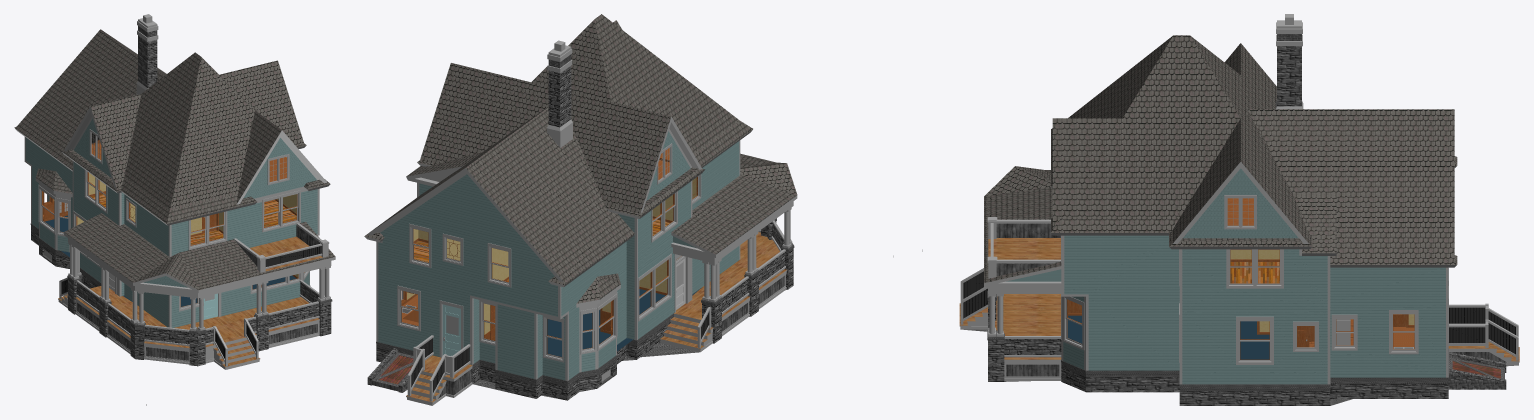
The model's file is VictorianHouseInner.fbx.
3 renders of one model, left to right at view 1: azimuth 30°, elevation 25°; view 2: azimuth 150°, elevation 25°; view 3: azimuth 270°, elevation 25°, orthographic. The views are drawn at different scales.
Visible parts, largest first — view 1: polySurface1199; view 2: polySurface1199; view 3: polySurface1199.
Boxes of the visible parts, x1,y1,x2,y2 form: polySurface1199: [14, 14, 335, 405]; polySurface1199: [364, 14, 893, 405]; polySurface1199: [922, 14, 1519, 405].
Size of the model in its own units: 563 by 530 by 879.
